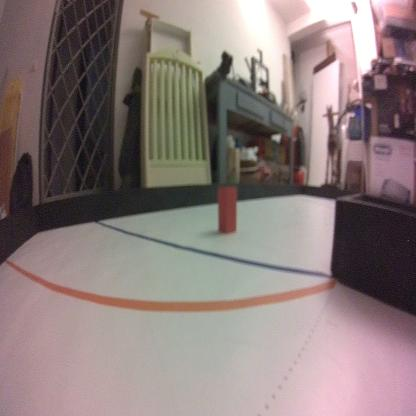red: (216, 184, 236, 237)
